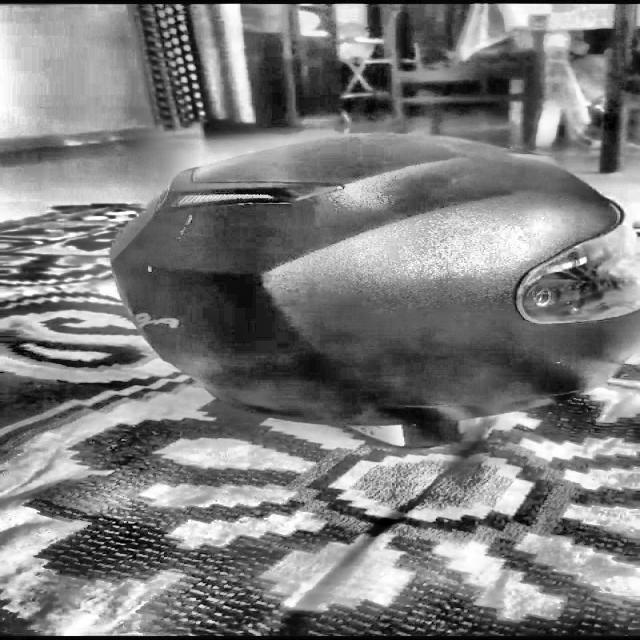Helmet: (112, 136, 640, 420)
